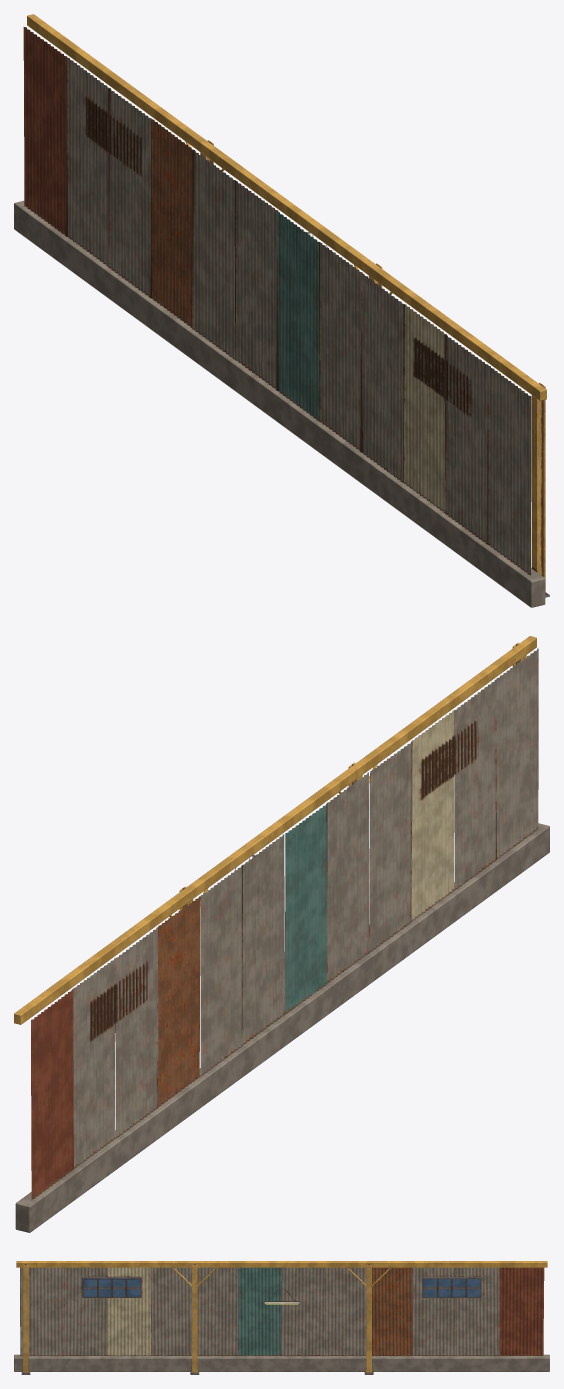
Rendered from ws_wall_left.glb.
The picture shows the model from 3 angles, top to bottom: view 1: azimuth 30°, elevation 25°; view 2: azimuth 150°, elevation 25°; view 3: azimuth 270°, elevation 25°; orthographic projection. The views are drawn at different scales.
Parts seen in each view (by area): view 1: wall; view 2: wall; view 3: wall.
Part boxes in pixels (<box>): wall: <box>14,14,549,607</box>; wall: <box>14,636,549,1232</box>; wall: <box>14,1261,549,1374</box>.
Bounding box in the file's own units: 1.4 × 5.58 × 24.6.
Materials: 2 (1 with a texture image).
